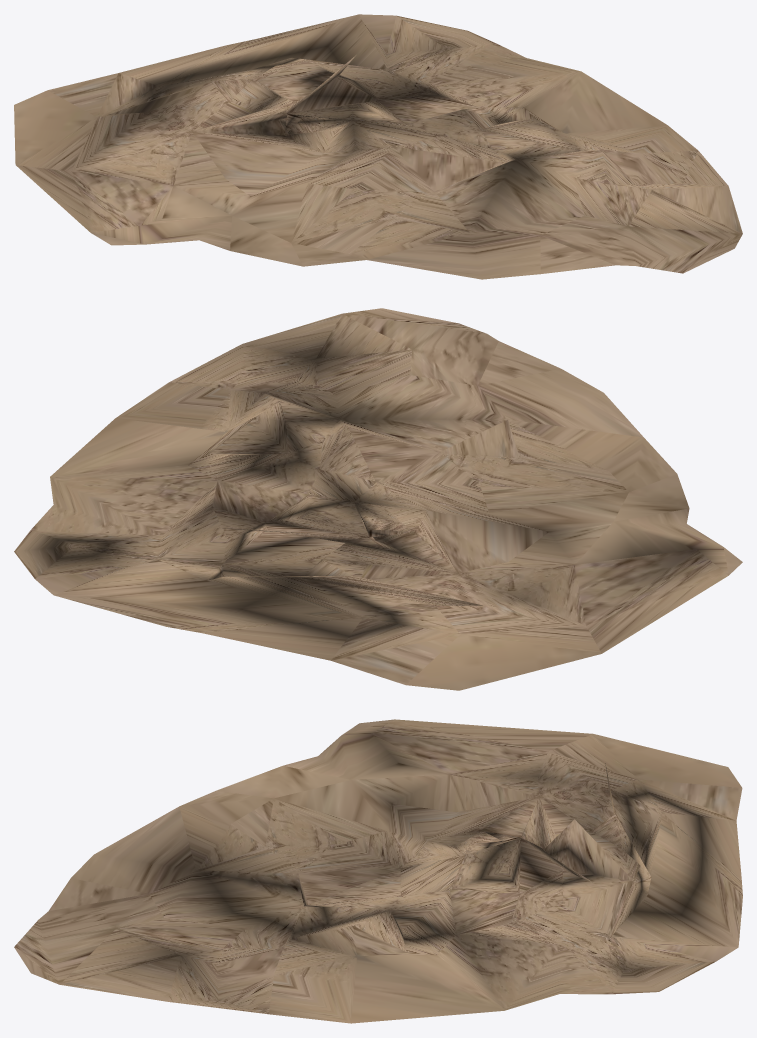
File: driftwood.lod1.glb
The picture shows the model from 3 angles, top to bottom: view 1: azimuth 30°, elevation 25°; view 2: azimuth 150°, elevation 25°; view 3: azimuth 270°, elevation 25°; orthographic projection. The views are drawn at different scales.
Parts seen in each view (by area): view 1: Model_material0_0; view 2: Model_material0_0; view 3: Model_material0_0.
Boxes of the visible parts, box(x1,y1,x2,y2) form: Model_material0_0: box(14, 14, 742, 279); Model_material0_0: box(14, 308, 742, 690); Model_material0_0: box(14, 719, 742, 1023).
Size of the model in its own units: 6.44 by 0.4769 by 6.84.
1 material, 1 textured.
